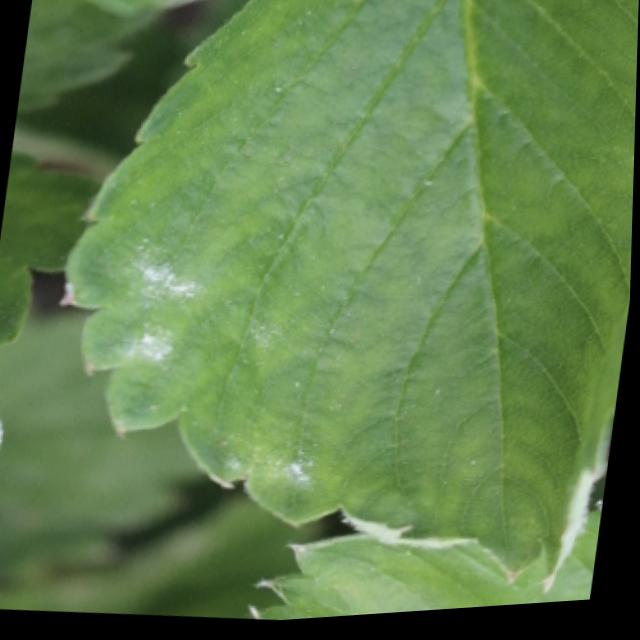Powdery Mildew Leaf: (60, 0, 639, 604), (0, 147, 108, 346)
